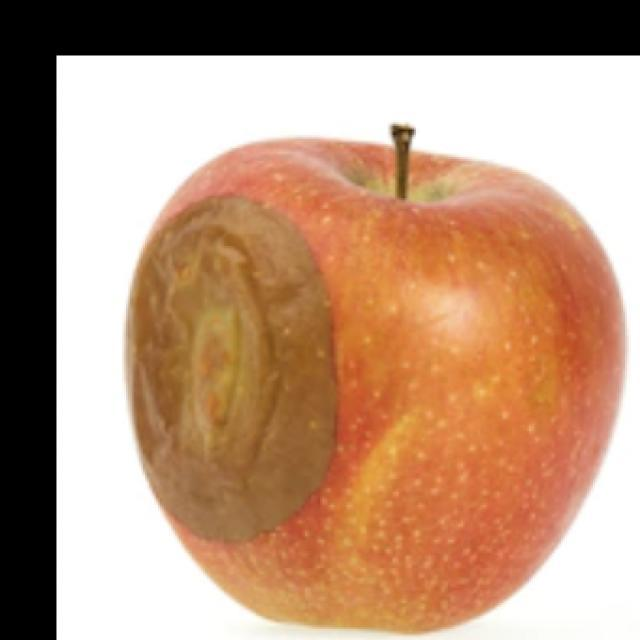Rotten: (111, 133, 609, 640)
